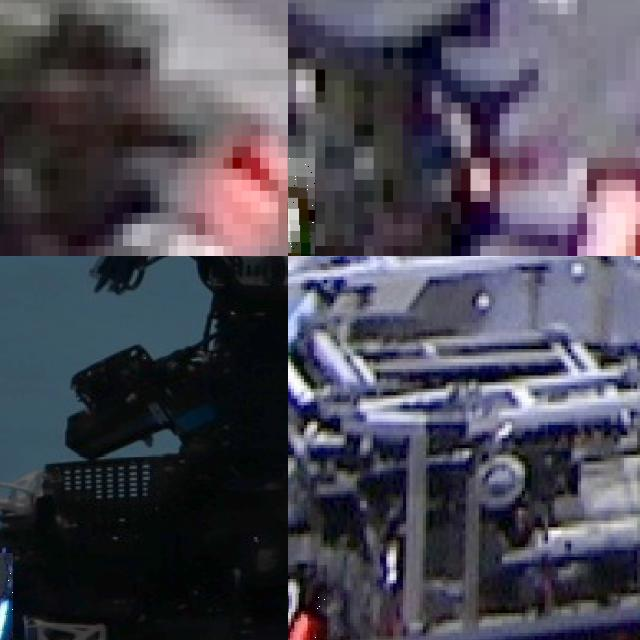Bs: (0, 553, 13, 640)
R2: (288, 565, 327, 640)
